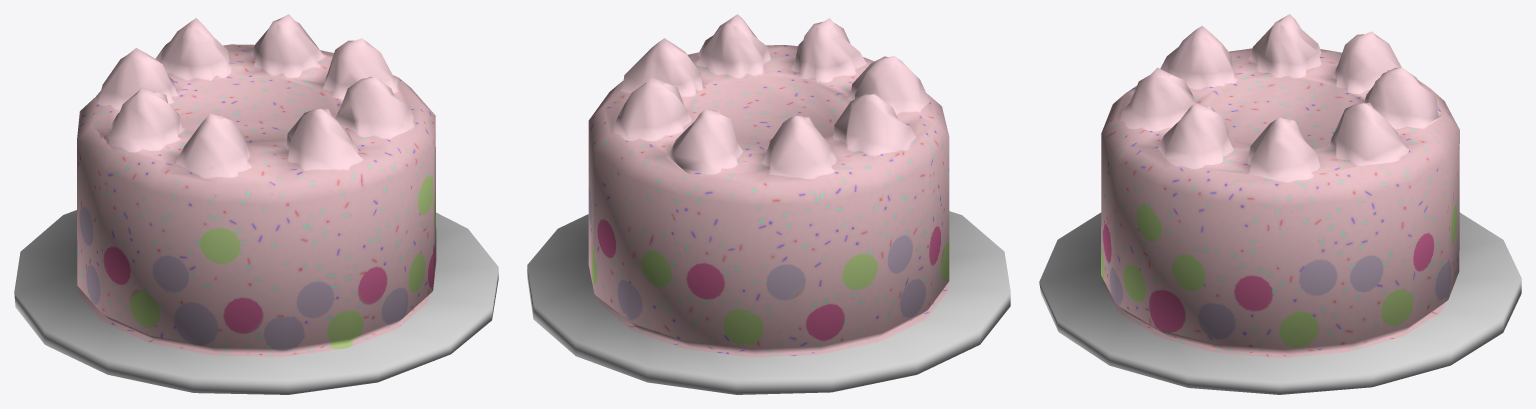
The model's file is Cake.fbx.
3 views of the same model, side by side, from view 1: azimuth 30°, elevation 25°; view 2: azimuth 150°, elevation 25°; view 3: azimuth 270°, elevation 25° (orthographic).
Parts seen in each view (by area): view 1: CakeShell; view 2: CakeShell; view 3: CakeShell.
Part boxes in pixels (bbox=[...]): CakeShell: bbox=[14, 14, 498, 394]; CakeShell: bbox=[527, 14, 1010, 394]; CakeShell: bbox=[1039, 14, 1521, 394].
Bounding box in the file's own units: 3.27 × 1.84 × 3.27.
1 material, 1 textured.
